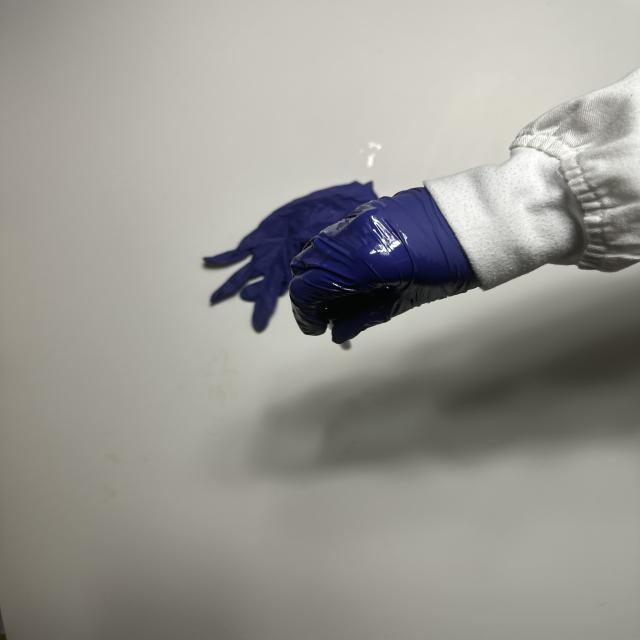gloves_contaminated: (290, 187, 478, 343)
